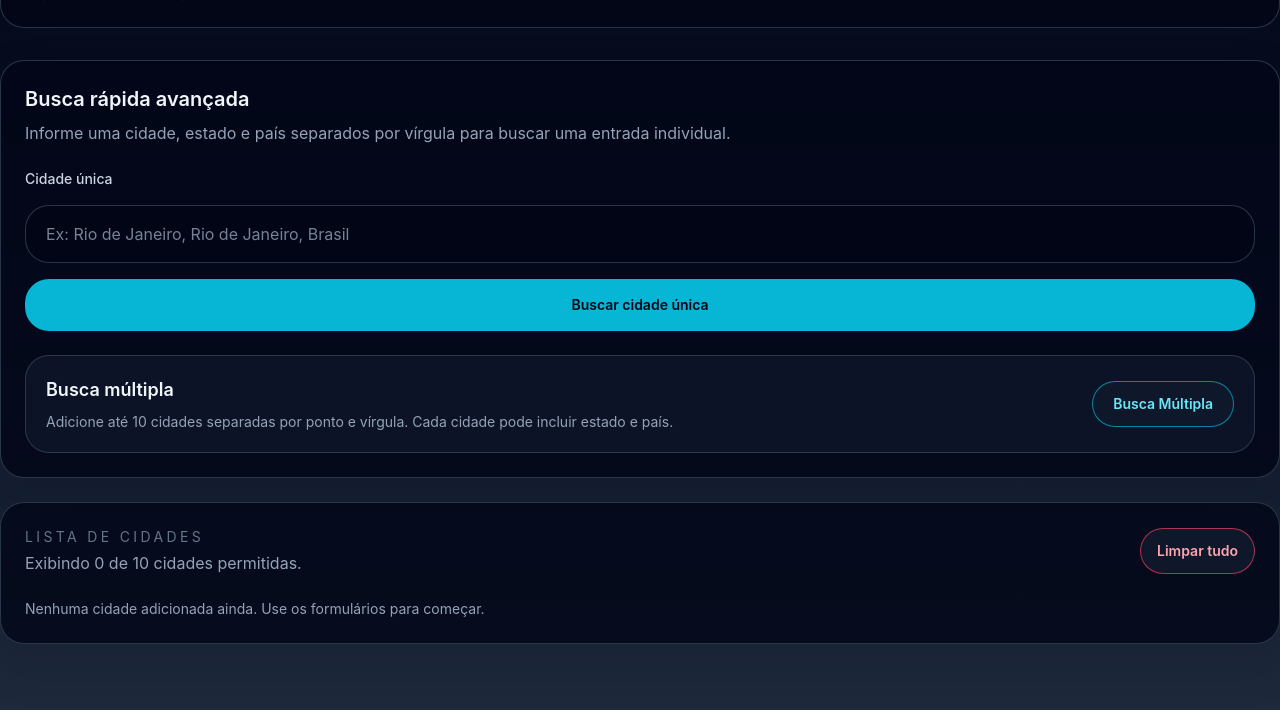
Test: AdvancedWeather › adds only non-repeated cities from a batch search while preserving existing display items
This screenshot has width=1280, height=710.
Type "São Paulo, SP, Brasil" into the field labelled "Cidade única" at (640, 234), box [25,205,1255,263]
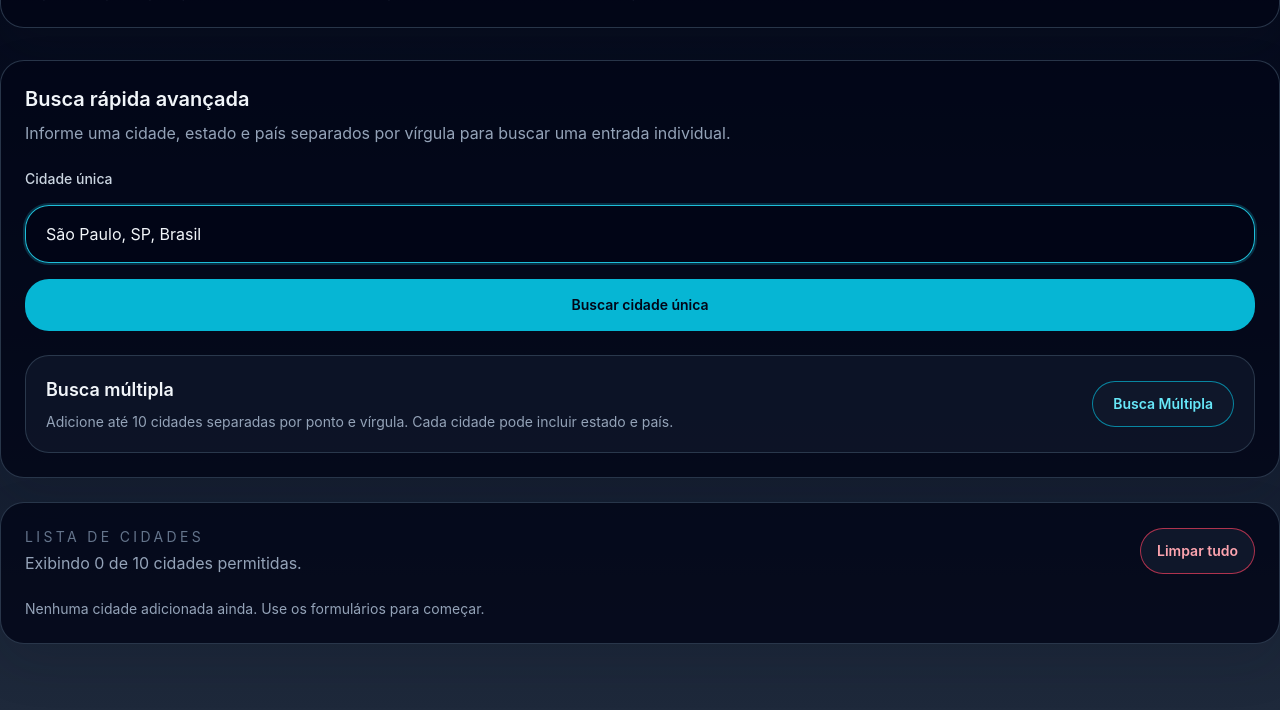
Click the button "Buscar cidade única" at (640, 305), box [25,279,1255,331]
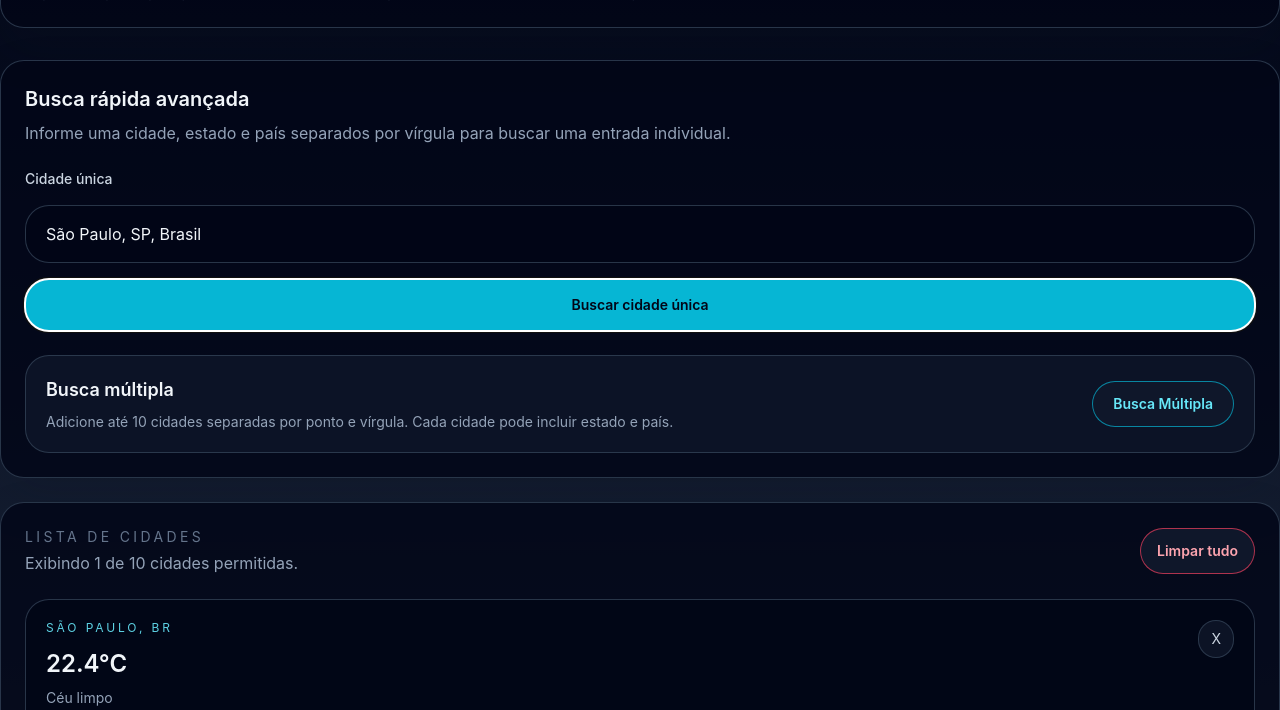
Check: the text "São Paulo, BR" is shown, box [46,620,173,636]
Click the button "Busca Múltipla" at (1163, 404), box [1092,381,1234,427]
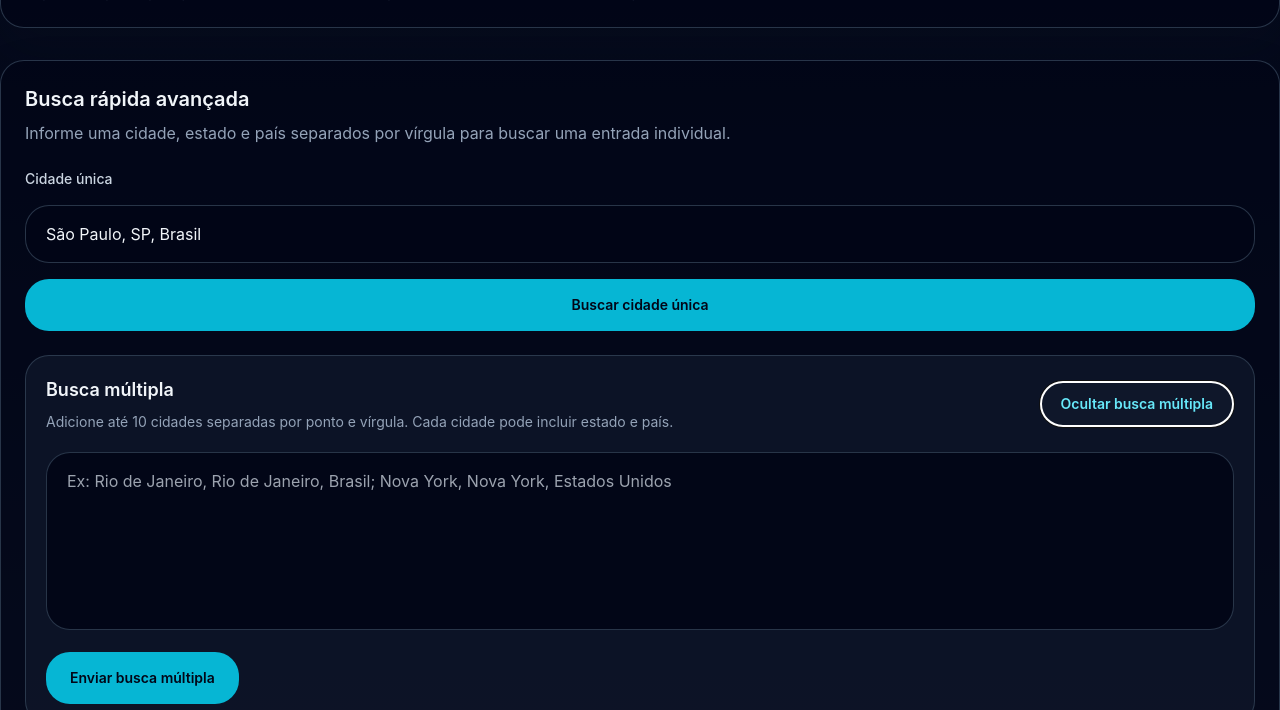
Type "São Paulo, SP, Brasil; Nova York, NY, Estados Unidos" into the text box with placeholder "Ex: Rio de Janeiro, Rio de Janeiro, Brasil; Nova York, Nova York, Estados Unidos" at (640, 541), box [46,452,1234,630]
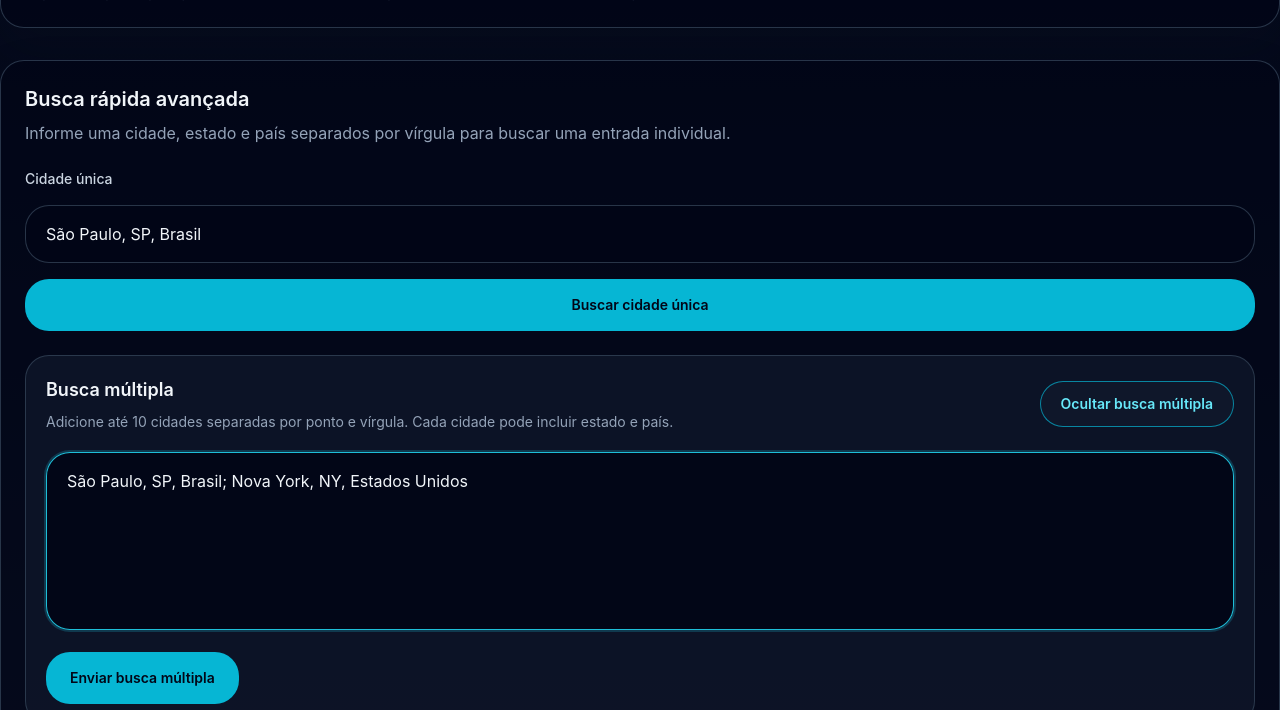
Click the button "Enviar busca múltipla" at (142, 678), box [46,652,239,704]
(page scrolled)
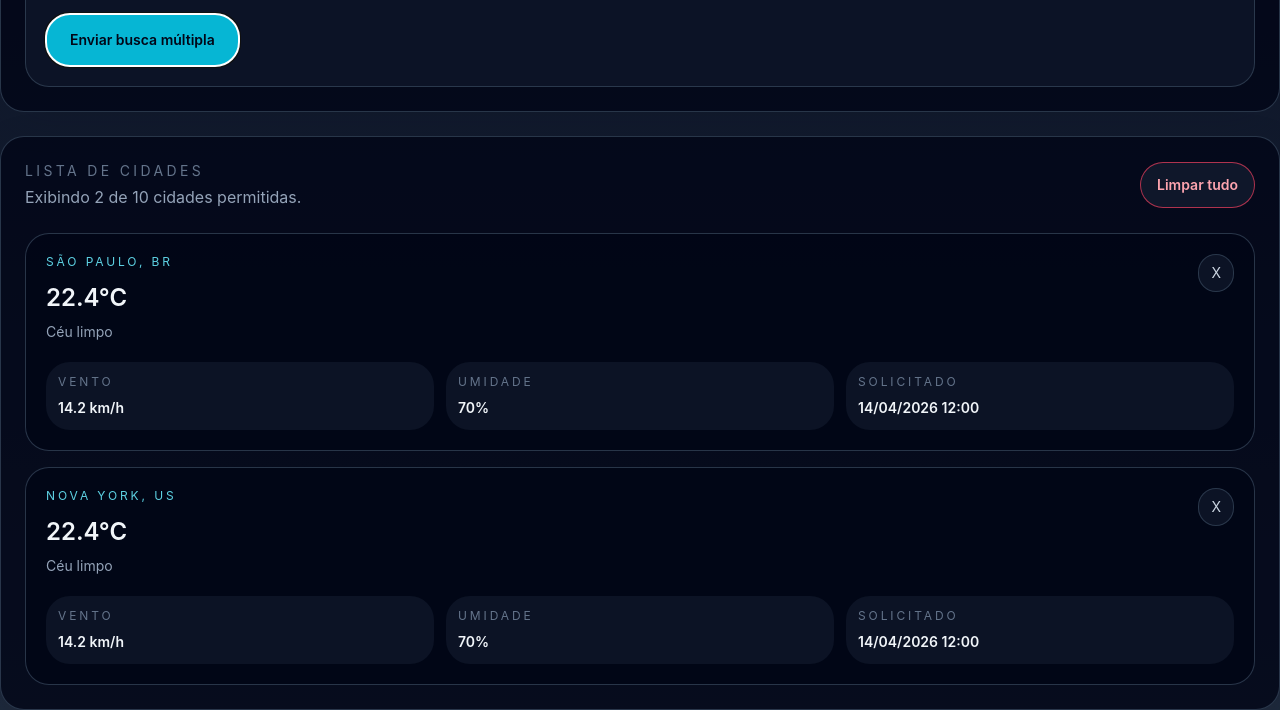
Check: the text "Nova York, US" is shown, box [46,488,176,504]
